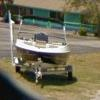Boat: (8, 25, 76, 85)
